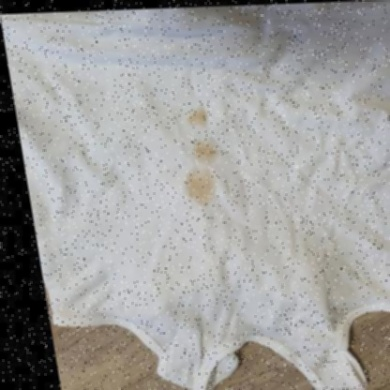coffee: (187, 172, 214, 204), (194, 141, 216, 162), (189, 110, 206, 128)
